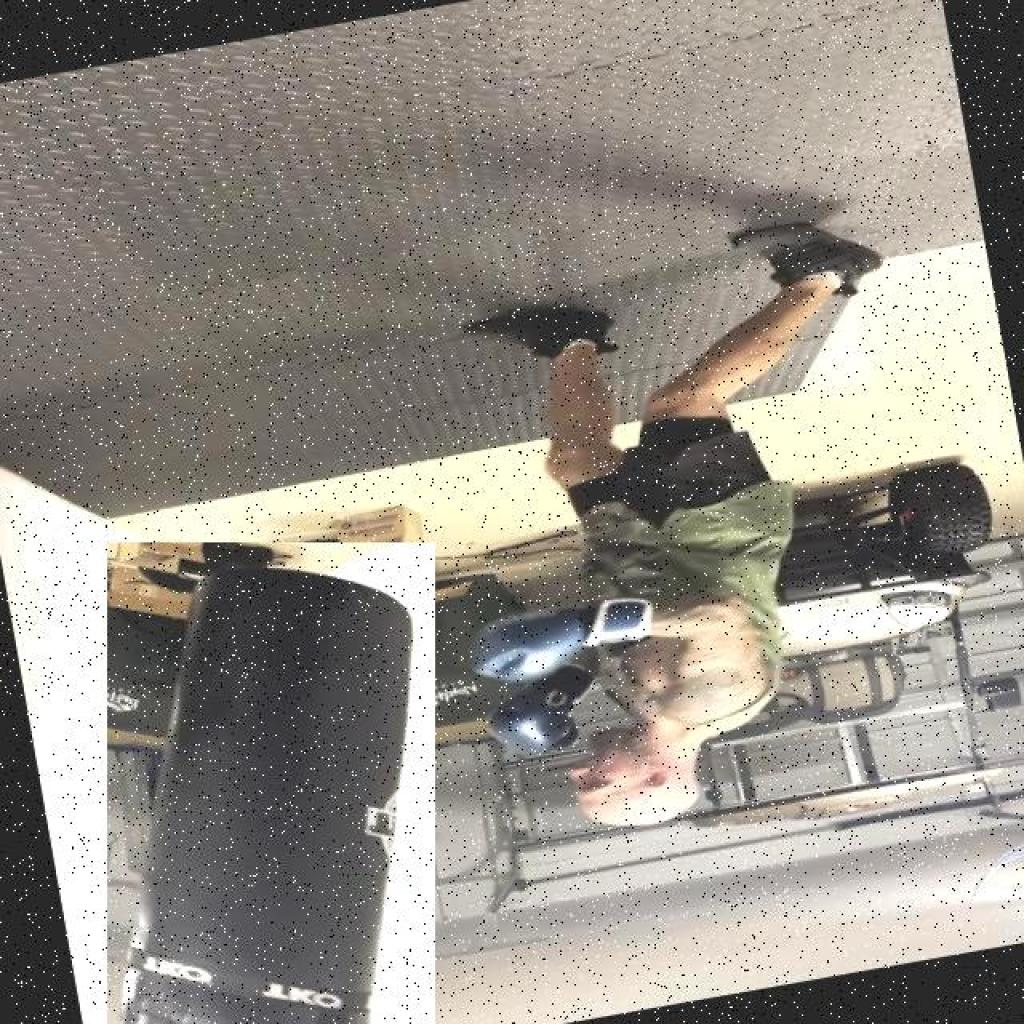bag: (107, 542, 435, 1024)
hook: (442, 539, 827, 859)
